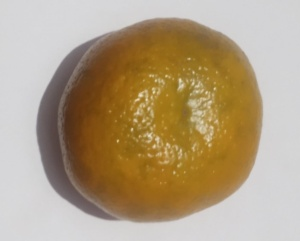BAD: (53, 11, 265, 230)
